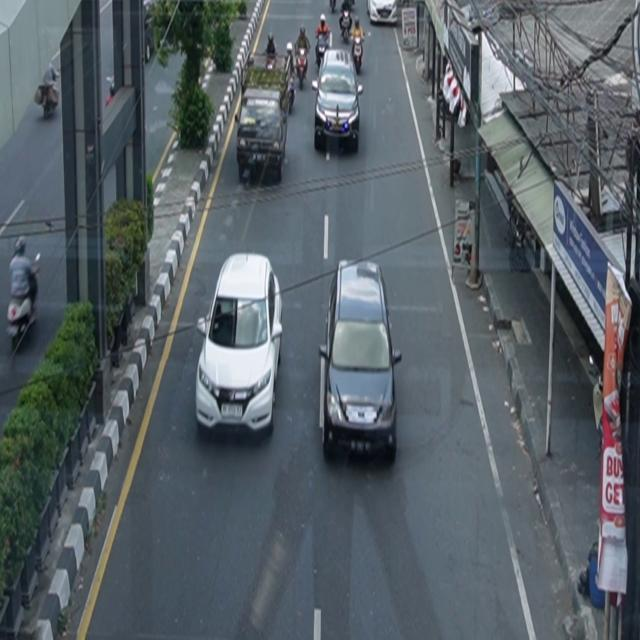car: (319, 259, 403, 463), (196, 253, 284, 438), (313, 49, 365, 154), (236, 88, 289, 183)
